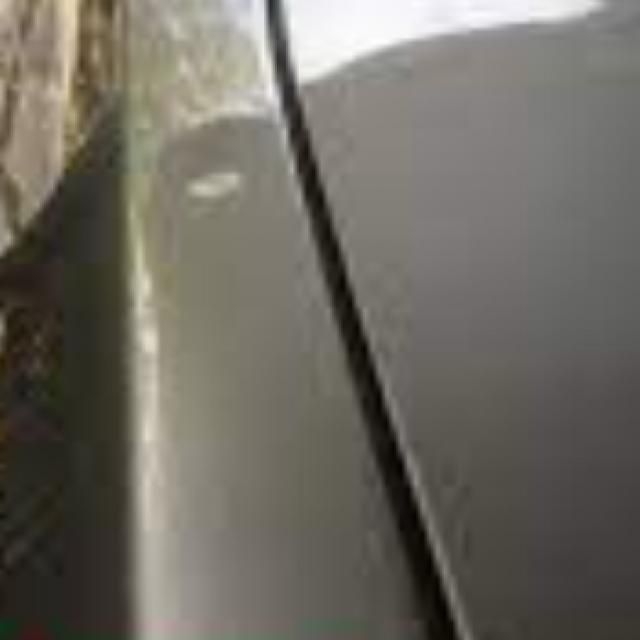dents: (157, 116, 274, 202)
